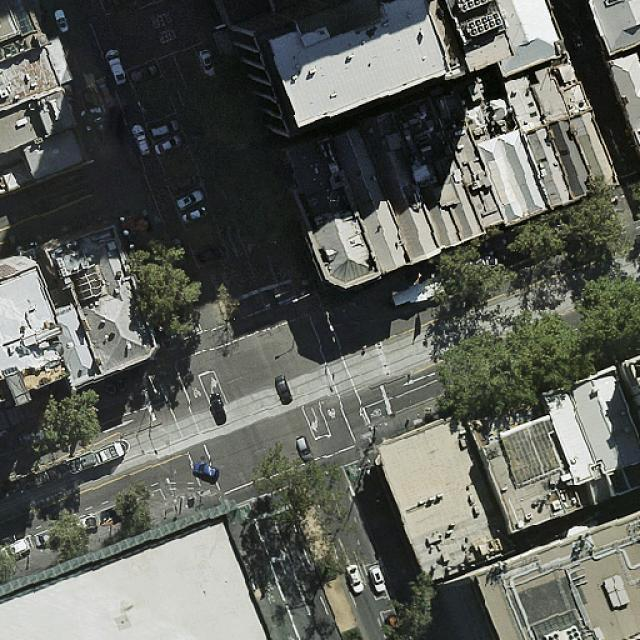Bike-Symbols: (237, 507, 252, 522), (346, 464, 361, 478), (324, 407, 338, 420), (265, 591, 278, 605), (192, 386, 204, 398), (370, 408, 382, 418), (286, 634, 295, 640)
